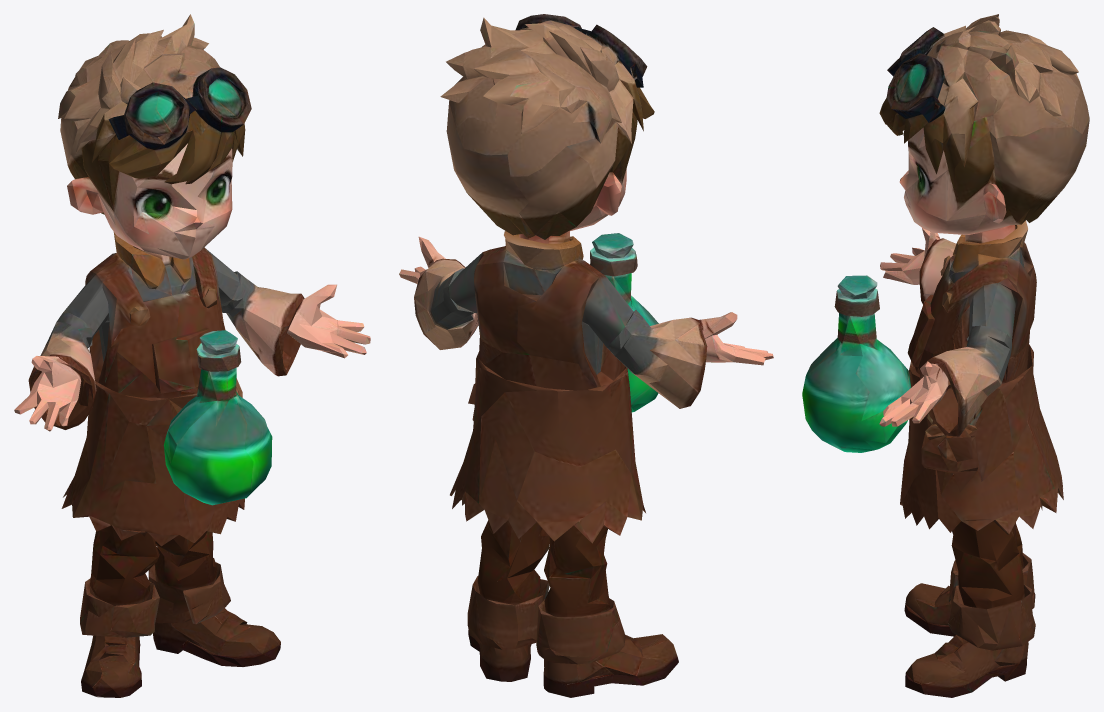
The model's file is held_alchemist.glb.
The picture shows the model from 3 angles, left to right: view 1: azimuth 30°, elevation 25°; view 2: azimuth 150°, elevation 25°; view 3: azimuth 270°, elevation 25°; orthographic projection. The views are drawn at different scales.
Size of the model in its own units: 1.11 by 1.9 by 0.7808.
1 material, 1 textured.
